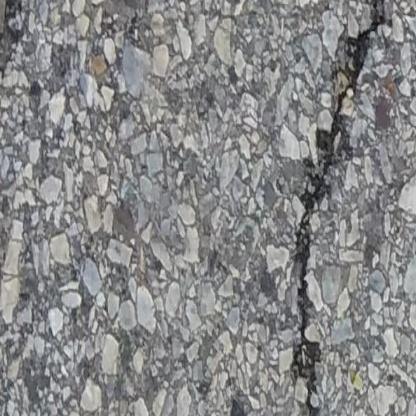Cracks: (291, 0, 393, 416)
